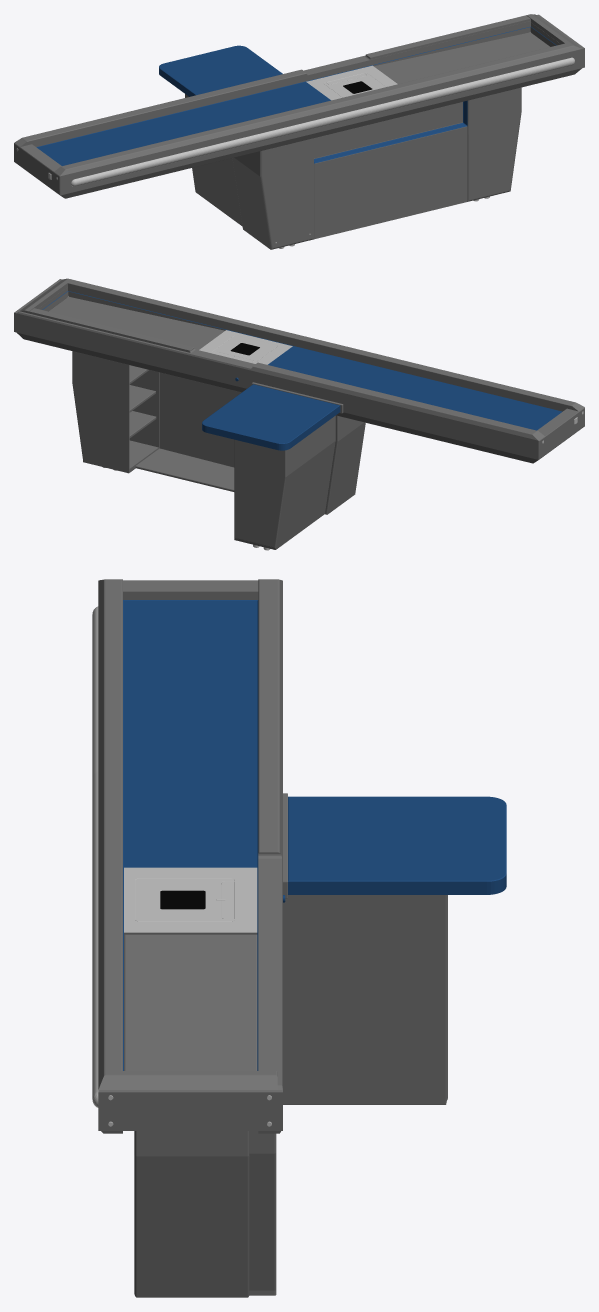
The model's file is kasa.FBX.
3 renders of one model, top to bottom at view 1: azimuth 30°, elevation 25°; view 2: azimuth 150°, elevation 25°; view 3: azimuth 270°, elevation 25°, orthographic. The views are drawn at different scales.
Parts seen in each view (by area): view 1: object0; view 2: object0; view 3: object0.
Boxes of the visible parts, bbox=[...] form: object0: bbox=[14, 14, 584, 249]; object0: bbox=[14, 278, 584, 550]; object0: bbox=[92, 579, 506, 1297].
Size of the model in its own units: 109 by 28.18 by 37.03.
